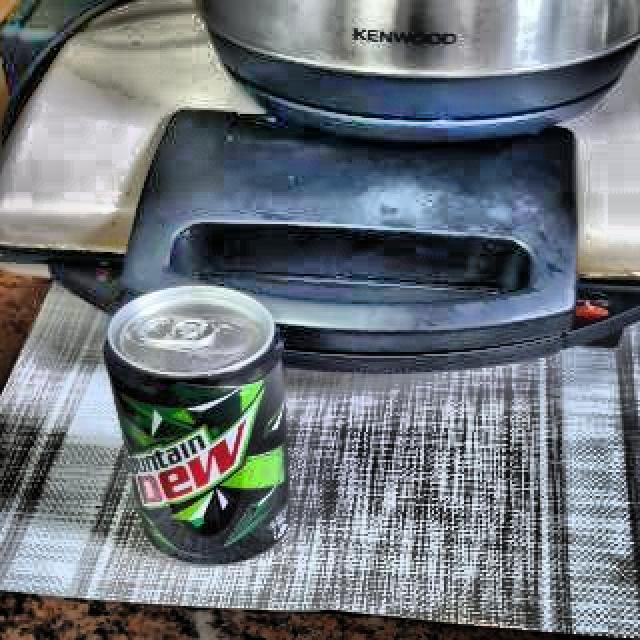metal: (104, 282, 290, 565)
